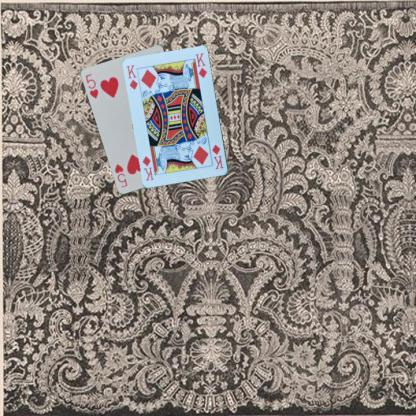5h: (83, 71, 100, 100)
Kd: (209, 142, 225, 171), (124, 63, 139, 92)
